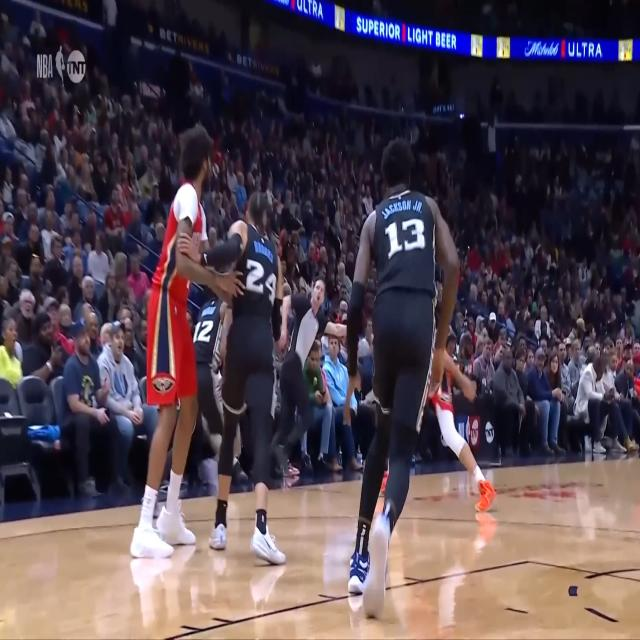Player: (343, 136, 460, 618), (126, 123, 248, 555), (177, 190, 285, 564), (371, 329, 500, 515), (137, 270, 224, 516)
Ref: (266, 274, 347, 475)
